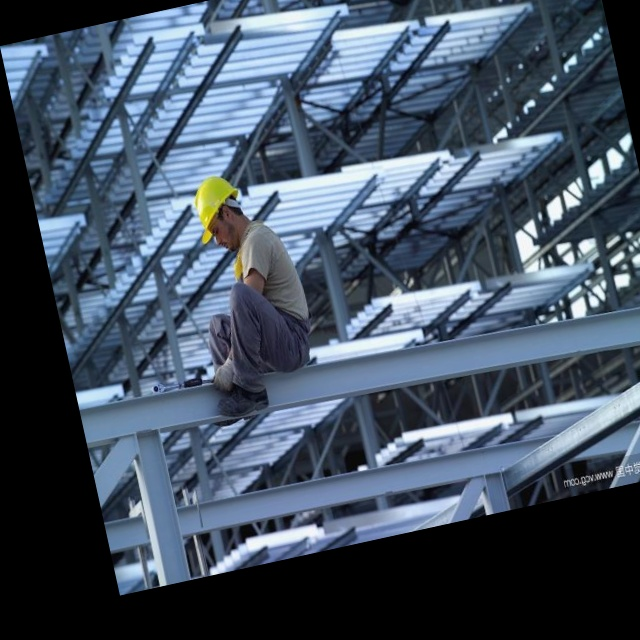Con_Casco: (188, 173, 251, 262)
